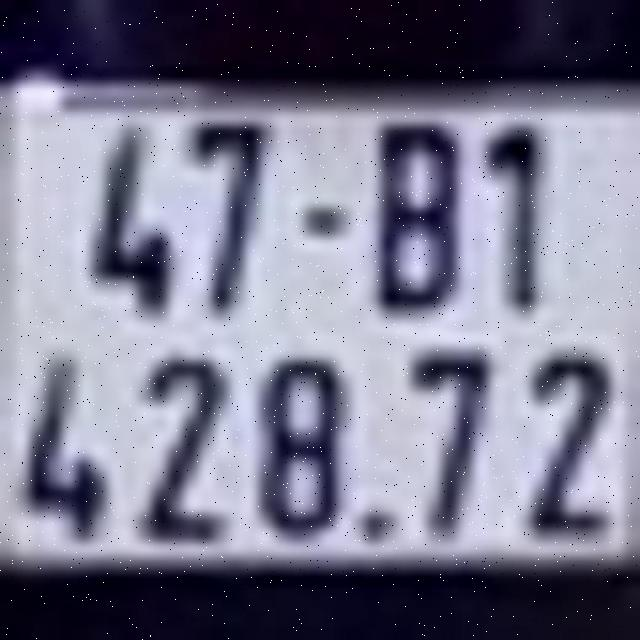1: (484, 120, 544, 313)
2: (136, 352, 231, 544), (524, 346, 616, 537)
4: (21, 347, 110, 541), (90, 124, 177, 317)
7: (406, 342, 492, 540), (188, 117, 267, 316)
8: (257, 352, 342, 538)
B: (374, 116, 464, 315)
